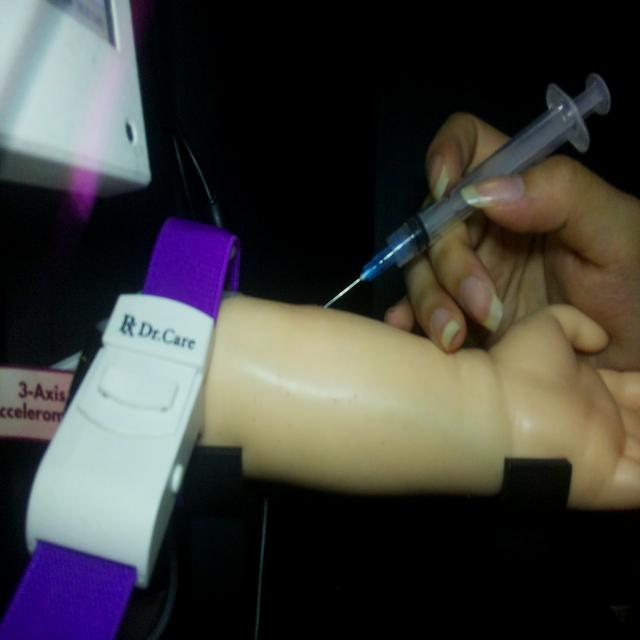28 degrees: (321, 68, 612, 311)
